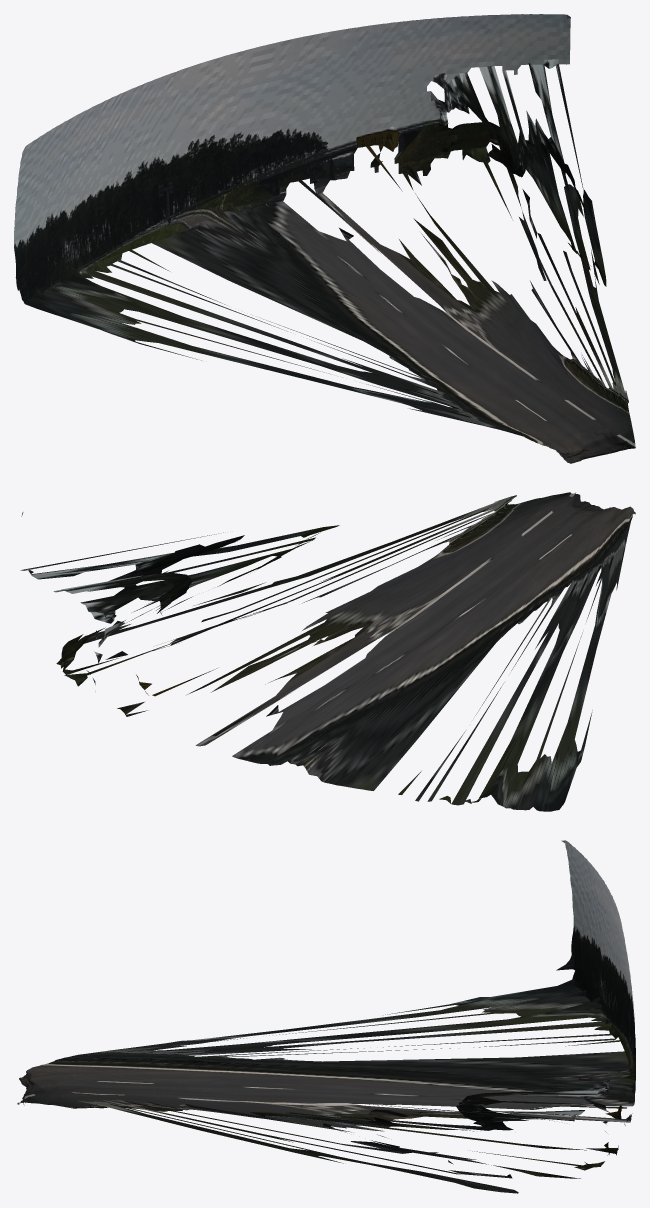
The picture shows the model from 3 angles, top to bottom: view 1: azimuth 30°, elevation 25°; view 2: azimuth 150°, elevation 25°; view 3: azimuth 270°, elevation 25°; orthographic projection. The views are drawn at different scales.
Parts seen in each view (by area): view 1: defaultobject; view 2: defaultobject; view 3: defaultobject.
Boxes of the visible parts, left/top/right/bottom form: defaultobject: left=14, top=14, right=635, bottom=463; defaultobject: left=20, top=492, right=635, bottom=811; defaultobject: left=17, top=840, right=635, bottom=1193.
Size of the model in its own units: 41.03 by 12.39 by 44.79.
1 material, 1 textured.
